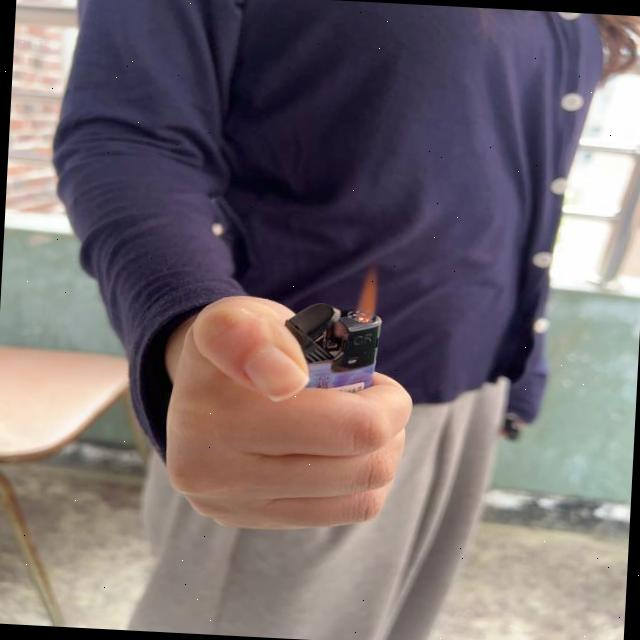fire: (351, 266, 382, 322)
